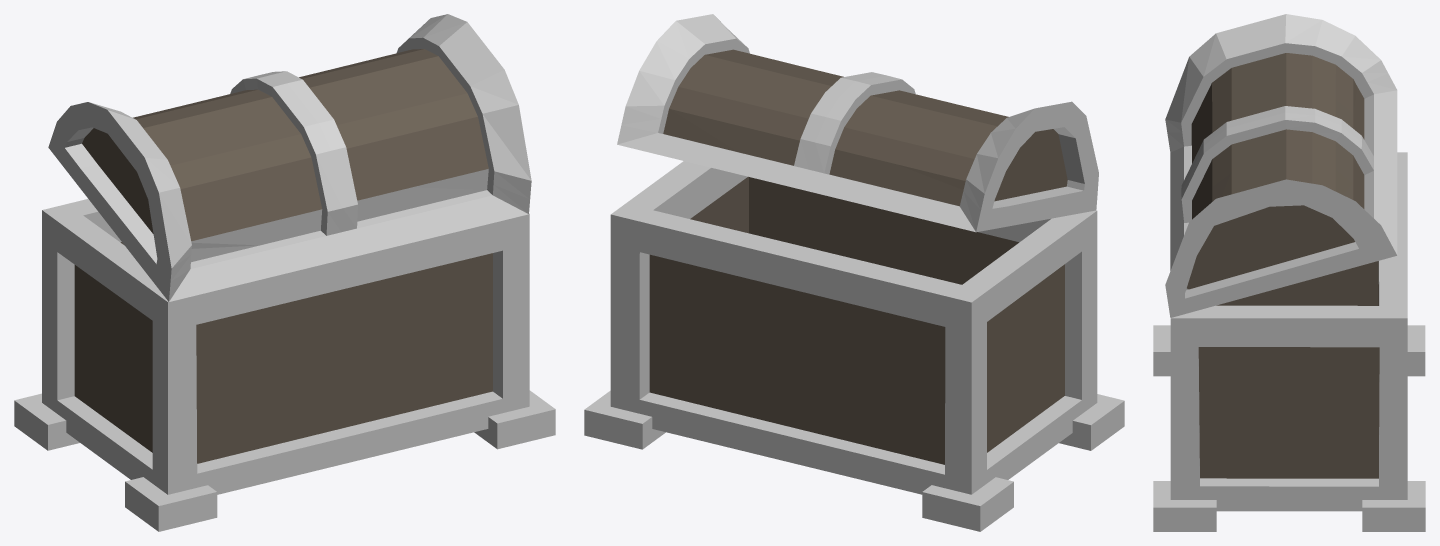
The model's file is openingbox3.fbx.
3 renders of one model, left to right at view 1: azimuth 30°, elevation 25°; view 2: azimuth 150°, elevation 25°; view 3: azimuth 270°, elevation 25°, orthographic. The views are drawn at different scales.
Parts seen in each view (by area): view 1: pCube6, pCylinder1; view 2: pCube6, pCylinder1; view 3: pCube6, pCylinder1.
Part boxes in pixels (left/top/right/bottom): pCube6: left=14, top=199, right=555, bottom=531; pCylinder1: left=48, top=14, right=531, bottom=301; pCube6: left=584, top=161, right=1124, bottom=531; pCylinder1: left=617, top=14, right=1098, bottom=232; pCube6: left=1153, top=152, right=1425, bottom=531; pCylinder1: left=1165, top=14, right=1397, bottom=317.
Size of the model in its own units: 16.08 by 14.16 by 10.16.
